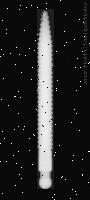3M ESPE: (37, 9, 54, 189)
